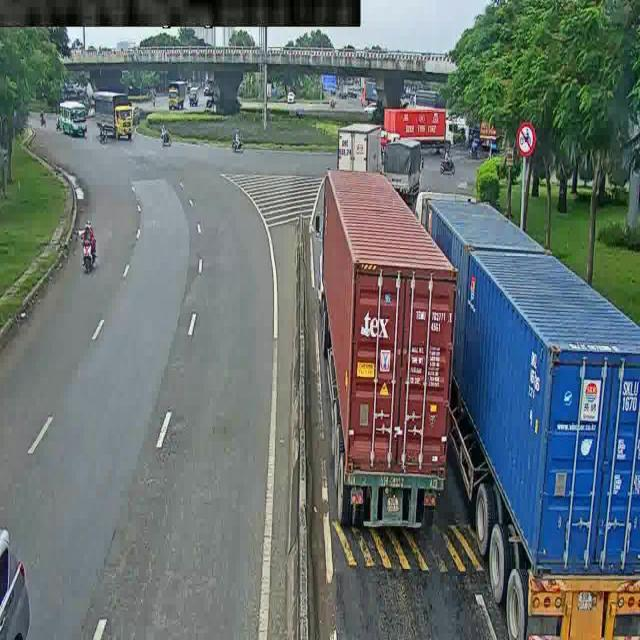bus: (56, 101, 85, 140)
car: (186, 82, 200, 102)
motorbike: (75, 216, 113, 285), (30, 106, 58, 137), (440, 146, 460, 173), (227, 127, 248, 148), (160, 119, 175, 142)
truck: (413, 182, 639, 636), (316, 158, 458, 532), (332, 114, 392, 186), (383, 133, 427, 203), (385, 109, 456, 151), (405, 82, 466, 130), (94, 88, 140, 144), (165, 79, 187, 124)
